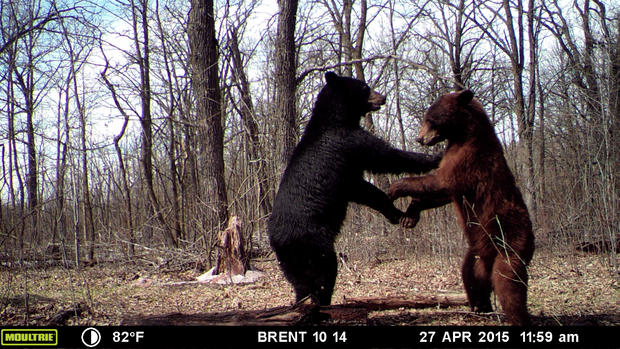bear: (413, 87, 485, 150), (319, 67, 389, 114)
